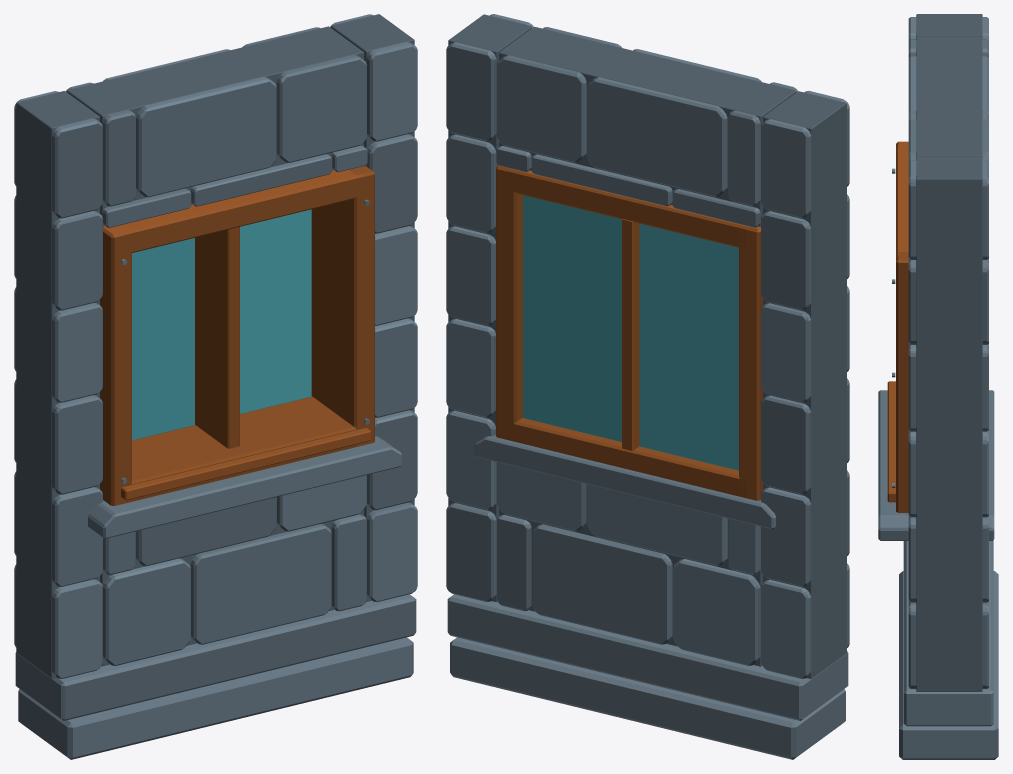
File: QH_Wall_Window_2m.fbx
3 views of the same model, side by side, from view 1: azimuth 30°, elevation 25°; view 2: azimuth 150°, elevation 25°; view 3: azimuth 270°, elevation 25° (orthographic). The views are drawn at different scales.
Visible parts, largest first — view 1: QH_Wall_Window_2m; view 2: QH_Wall_Window_2m; view 3: QH_Wall_Window_2m.
Part boxes in pixels (box(x1,y1,x2,y2)): QH_Wall_Window_2m: box(14, 14, 417, 759); QH_Wall_Window_2m: box(446, 14, 849, 759); QH_Wall_Window_2m: box(878, 14, 998, 759).
Size of the model in its own units: 1.65 by 2.73 by 0.507.
